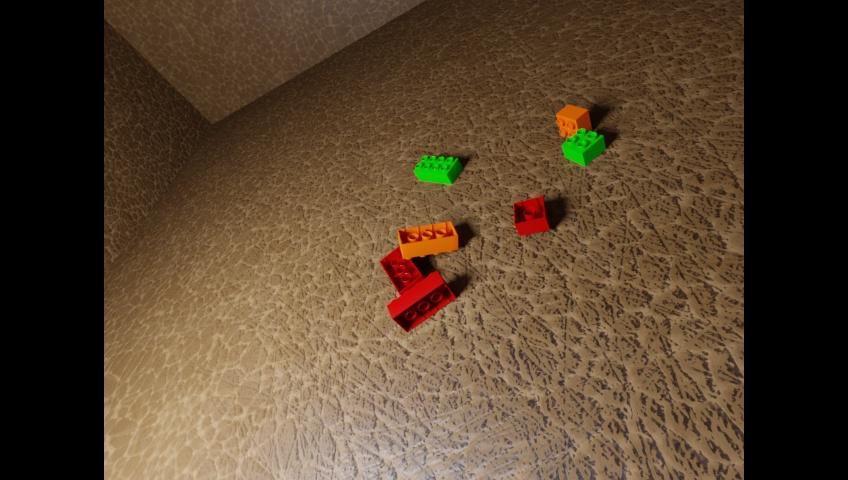2x2_green: (561, 128, 604, 165)
2x2_orange: (556, 104, 591, 137)
2x2_red: (513, 195, 548, 235)
4x2_green: (413, 155, 462, 184)
4x2_orange: (397, 220, 457, 258)
4x2_red: (386, 270, 455, 332), (379, 245, 424, 295)
